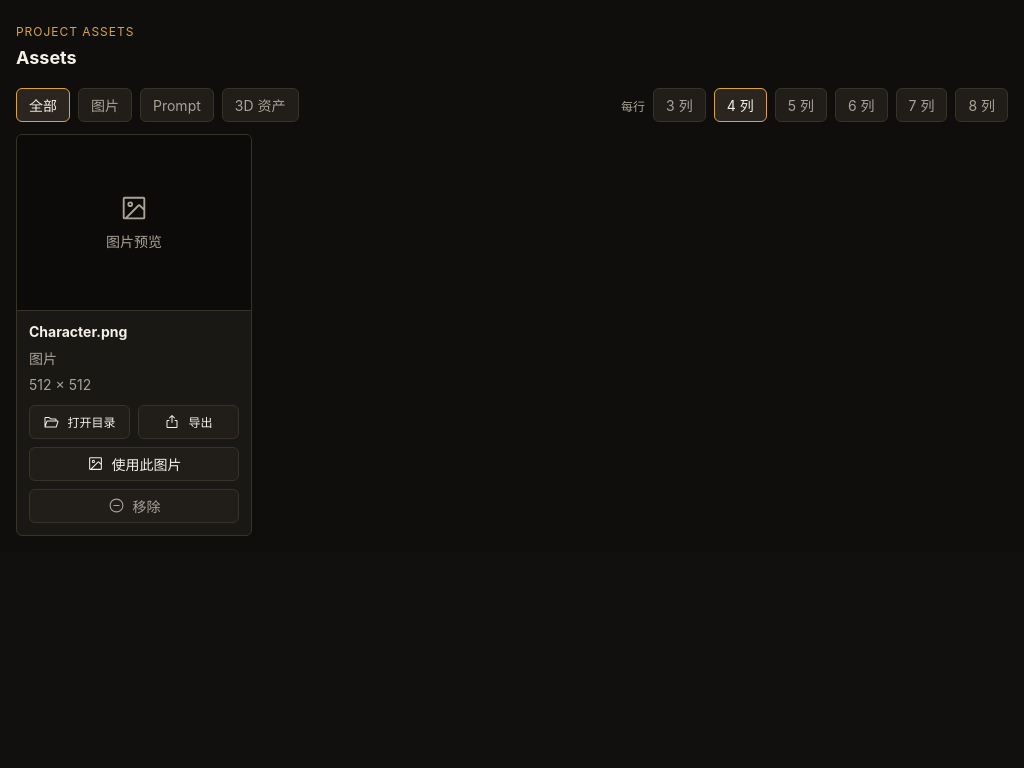
Scenario: AssetBrowser › opens the managed directory and exports one library asset through native capability
Expected: the heading "Character.png" is shown, [29, 322, 127, 340]
Click the button "打开目录": click(80, 422) [29, 404, 130, 438]
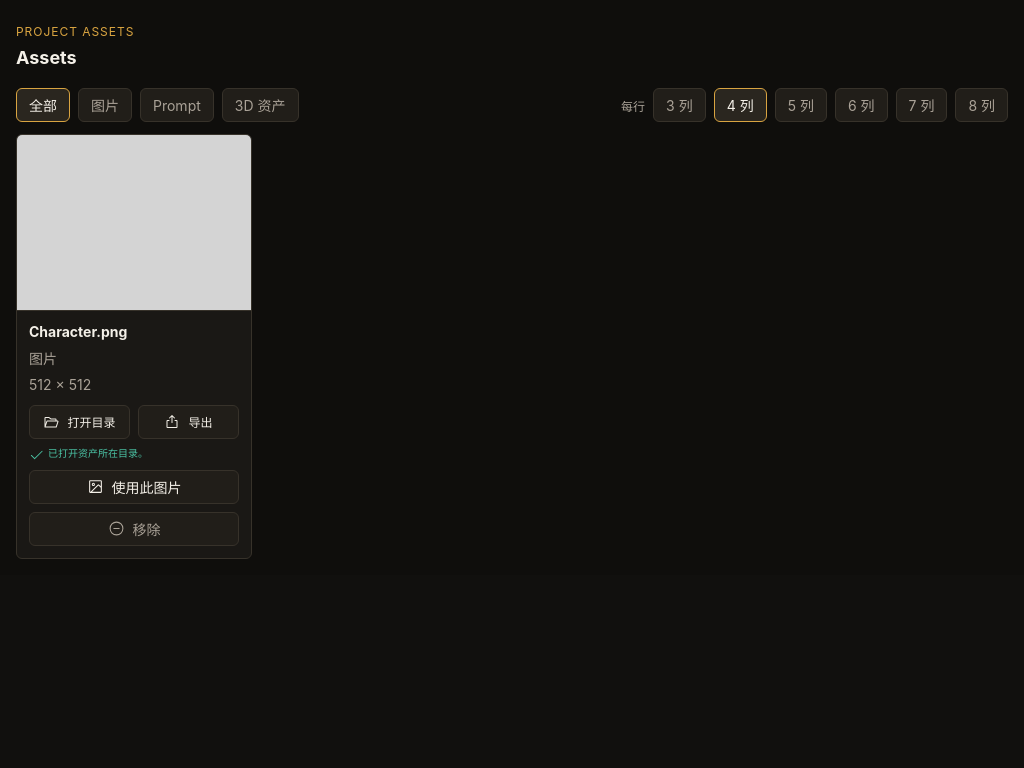
Now the text "已打开资产所在目录。" is shown, box [29, 446, 148, 462]
Click the button with aria-label "导出资源": click(188, 422) [138, 404, 239, 438]
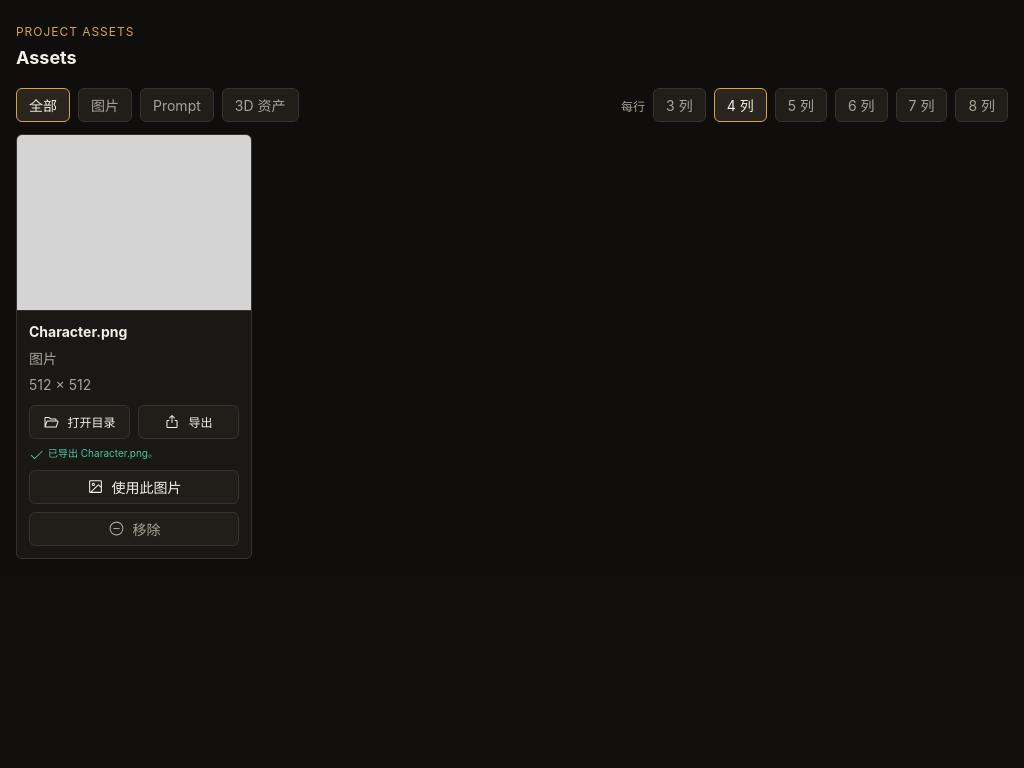
Now the text "已导出 Character.png。" is shown, box [29, 446, 158, 462]
